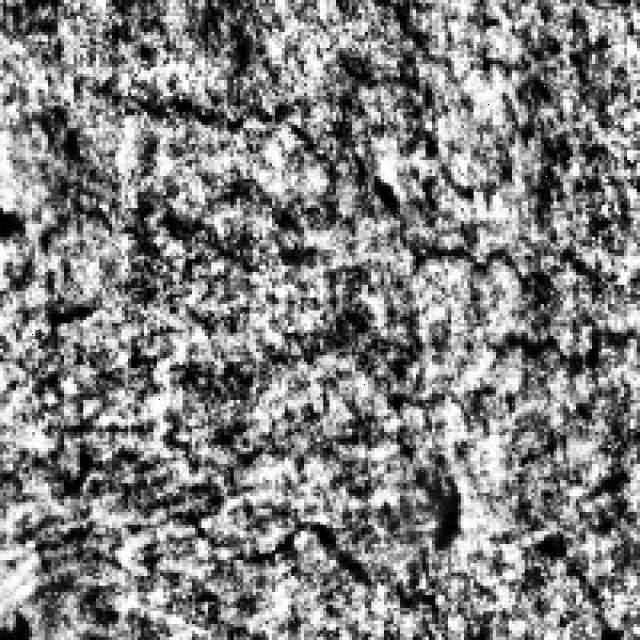Pitted_Surface: (12, 272, 468, 605), (68, 0, 570, 294), (474, 307, 640, 627)
